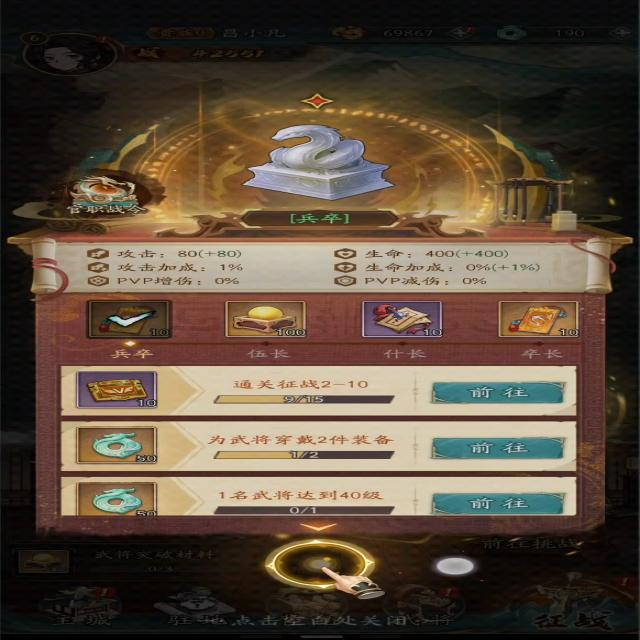hint-guide: (266, 537, 391, 602)
operation-confirm: (426, 434, 570, 462), (426, 488, 570, 516), (425, 380, 572, 405)
